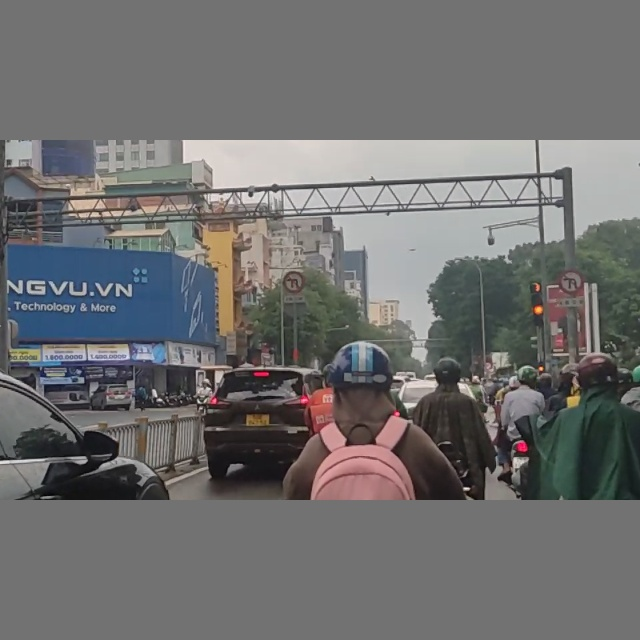P.124c: (284, 271, 307, 294), (560, 270, 582, 292)
